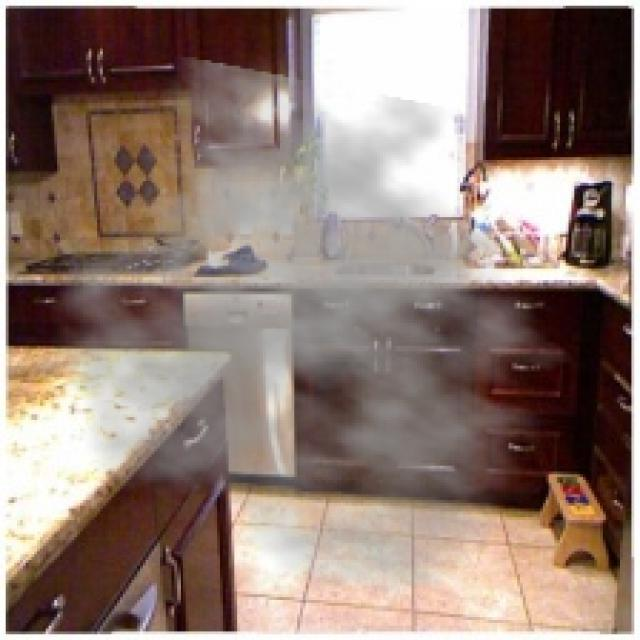smoke: (29, 54, 594, 597)
